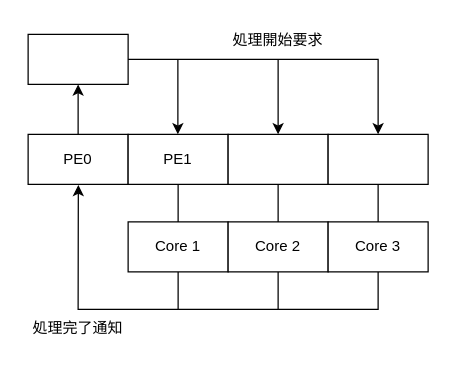
Image size: 450x368. Some labels were removed from this diagram. The box of each missing label's shape, as (x1, y1, x2, y2) in pixels:
Core 0: (27, 33, 128, 84)
PE2: (227, 133, 328, 184)
PE3: (327, 133, 428, 184)
